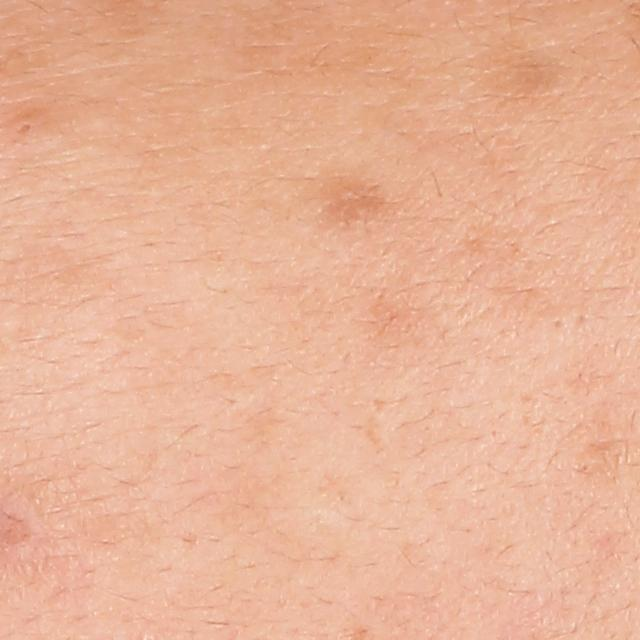comedo: (14, 111, 41, 138)
